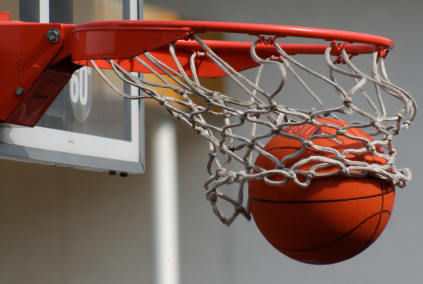basketball: (250, 116, 397, 265)
